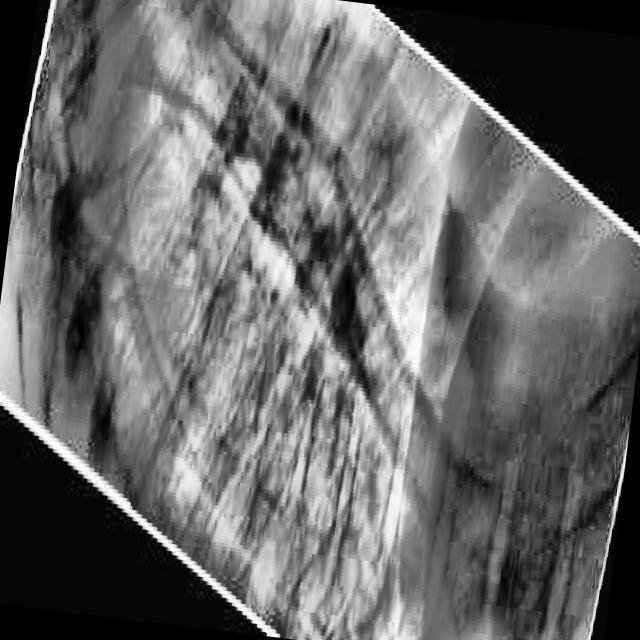humerus: (267, 55, 400, 347)
